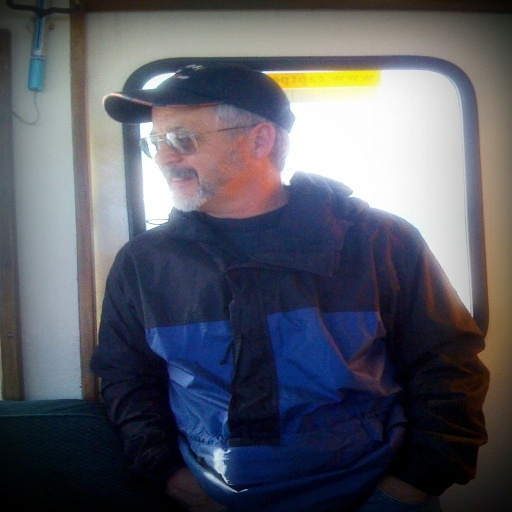hand: (166, 470, 225, 511), (377, 476, 430, 504)
